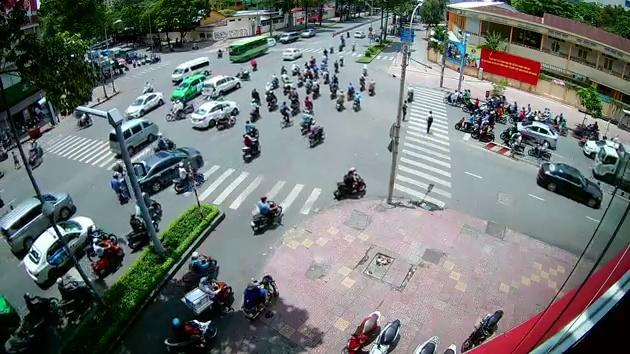xe buyt: (226, 34, 268, 61)
xe hoi: (22, 216, 95, 282), (0, 192, 73, 252), (535, 161, 602, 208), (138, 145, 202, 193), (189, 100, 238, 129), (515, 121, 557, 149), (123, 91, 163, 118), (168, 74, 205, 101), (201, 74, 240, 96)
xe may: (332, 165, 366, 199), (250, 194, 281, 230), (306, 119, 326, 148), (249, 98, 260, 123)
xe tai: (592, 141, 630, 182)
xe van: (107, 117, 158, 155), (171, 55, 211, 81)
